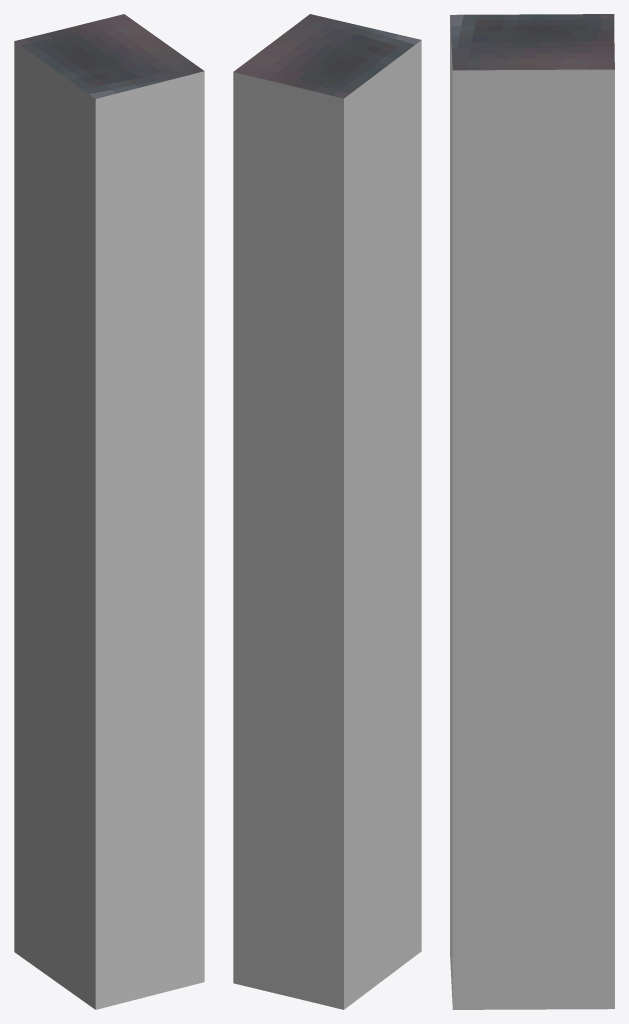
The model's file is DEBW_0010007THWi.gltf.
3 views of the same model, side by side, from view 1: azimuth 30°, elevation 25°; view 2: azimuth 150°, elevation 25°; view 3: azimuth 270°, elevation 25° (orthographic). The views are drawn at different scales.
Visible parts, largest first — view 1: Z_UP; view 2: Z_UP; view 3: Z_UP.
Part boxes in pixels (bbox=[...]): Z_UP: bbox=[14, 14, 204, 1009]; Z_UP: bbox=[233, 14, 421, 1009]; Z_UP: bbox=[450, 14, 614, 1009].
Bounding box in the file's own units: 1.95 × 15.15 × 2.41.
2 materials, 1 textured.
